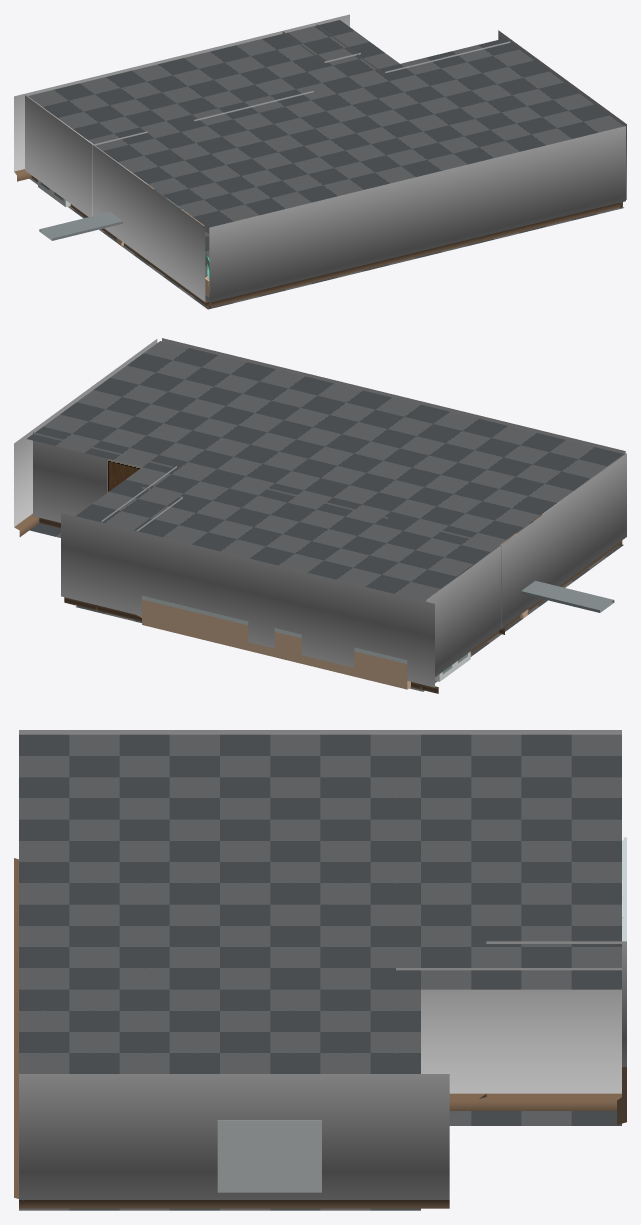
The model's file is Restaurant.glb.
3 renders of one model, top to bottom at view 1: azimuth 30°, elevation 25°; view 2: azimuth 150°, elevation 25°; view 3: azimuth 270°, elevation 25°, orthographic. The views are drawn at different scales.
Parts seen in each view (by area): view 1: Roof, Wall.019, Wall.013, Wall.017, Wall.012, Wall.014, Wall.016, Wall.015, Wall.018, Wall.033, Wall.038, Wall.034 (+6 smaller); view 2: Roof, Wall.040, Wall.006, Wall.005, Wall.001, Wall.002, Wall.003, Wall.004, Wall.029, Wall.034, Wall.037, Wall.033 (+16 smaller); view 3: Roof, Wall.007, Wall.010, Wall.011, Wall.031, Wall.032, Wall.008, Wall.009, Wall.030, Drip tray.001, Drip tray, GroundPlane.013 (+2 smaller).
Boxes of the visible parts, <box> form: Roof: <box>28,20,623,227</box>; Wall.019: <box>373,156,501,267</box>; Wall.013: <box>289,197,334,287</box>; Wall.017: <box>539,136,584,226</box>; Wall.012: <box>331,187,375,277</box>; Wall.014: <box>248,207,292,298</box>; Wall.016: <box>581,126,625,216</box>; Wall.015: <box>206,217,250,308</box>; Wall.018: <box>498,146,542,237</box>; Wall.033: <box>179,208,210,308</box>; Wall.038: <box>50,114,81,214</box>; Wall.034: <box>154,190,184,289</box>; Roof: <box>27,341,623,600</box>; Wall.040: <box>356,586,438,693</box>; Wall.006: <box>61,512,115,614</box>; Wall.005: <box>112,525,163,621</box>; Wall.001: <box>318,575,369,667</box>; Wall.002: <box>267,563,318,659</box>; Wall.003: <box>215,550,266,646</box>; Wall.004: <box>164,538,215,613</box>; Wall.029: <box>33,432,69,528</box>; Wall.034: <box>563,474,598,585</box>; Wall.037: <box>477,537,512,648</box>; Wall.033: <box>592,453,626,564</box>; Roof: <box>19,734,621,1073</box>; Wall.007: <box>363,1074,449,1208</box>; Wall.010: <box>105,1074,191,1208</box>; Wall.011: <box>19,1074,104,1208</box>; Wall.031: <box>471,968,546,1110</box>; Wall.032: <box>546,968,621,1110</box>; Wall.008: <box>277,1074,363,1208</box>; Wall.009: <box>191,1074,277,1208</box>; Wall.030: <box>396,968,471,1110</box>; Drip tray.001: <box>217,1120,272,1192</box>; Drip tray: <box>266,1120,321,1192</box>; GroundPlane.013: <box>521,1111,621,1125</box>.
Size of the model in its own units: 18.94 by 3.05 by 12.2.
Materials: 180 (96 with a texture image).
